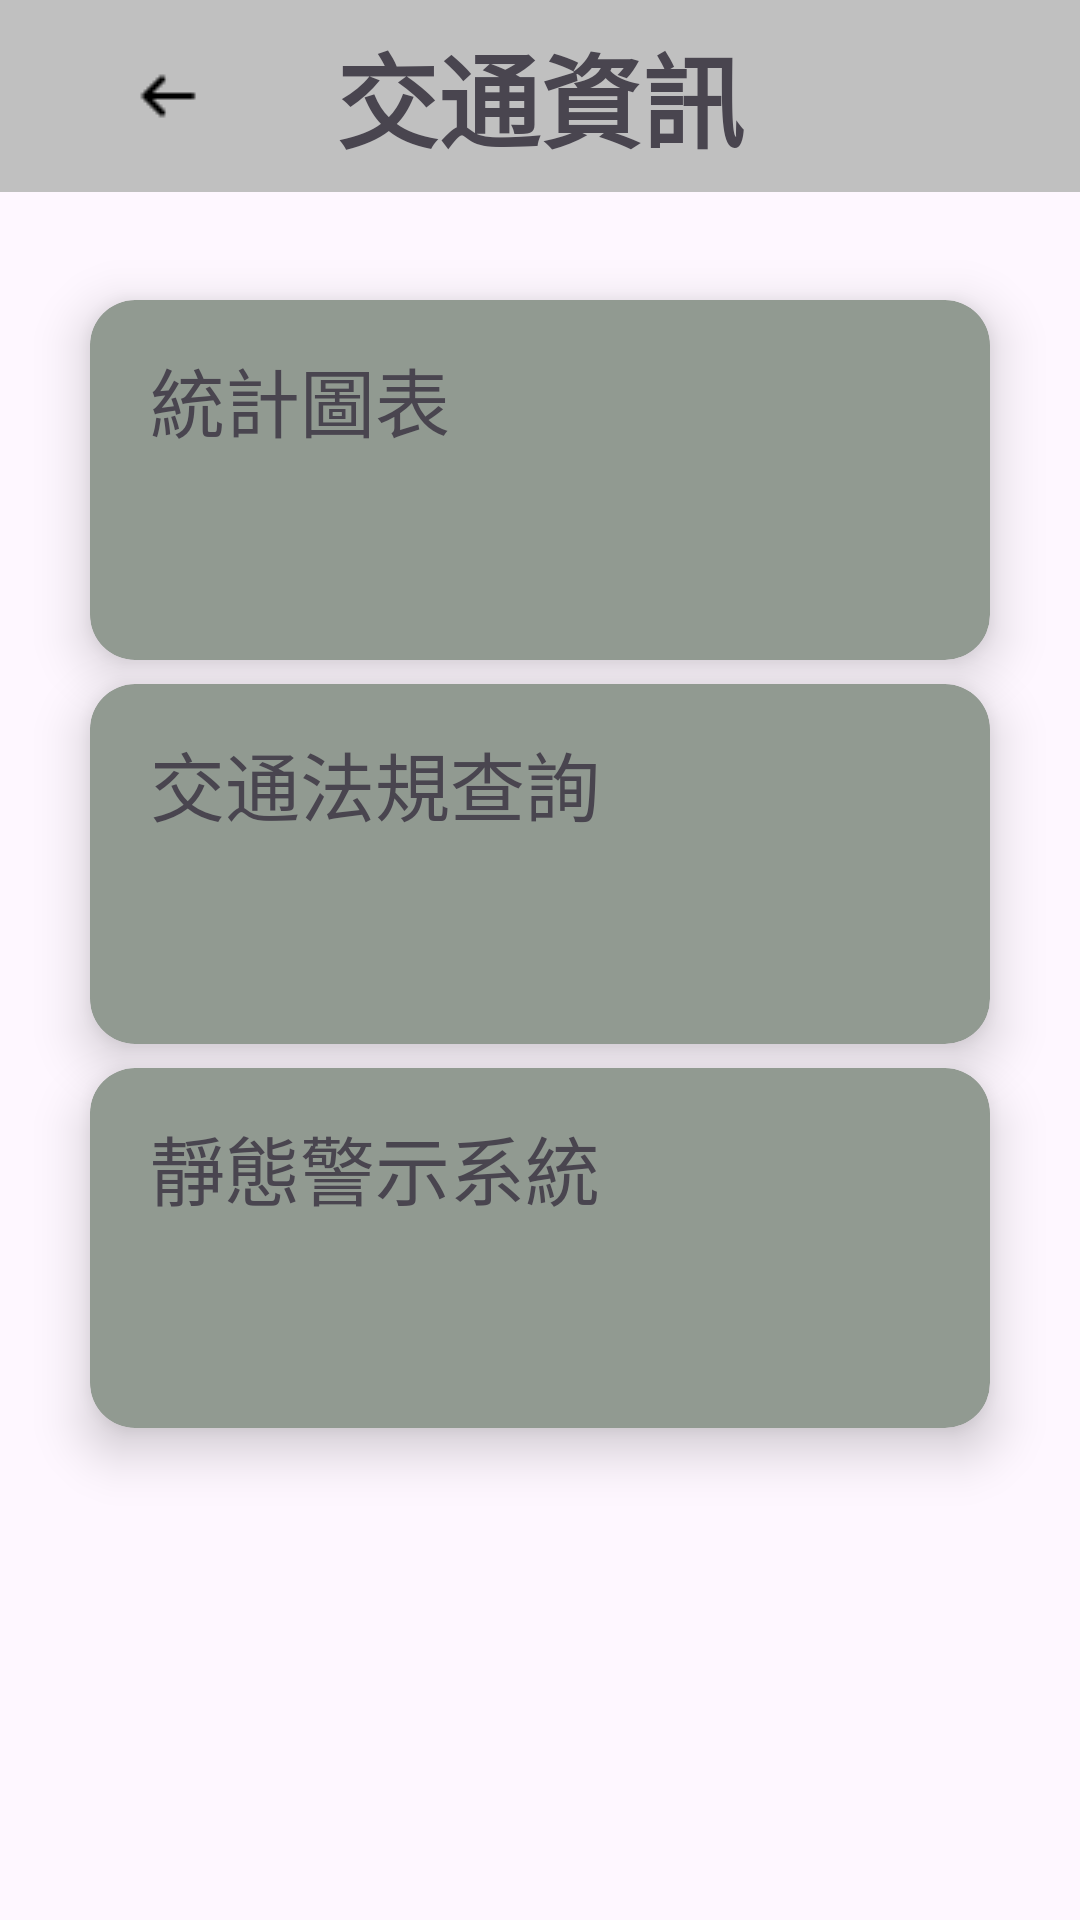

Icons on this 1080 x 1920 Android screen, each with the point to tap as (x,y):
arrow left: (168,96)
